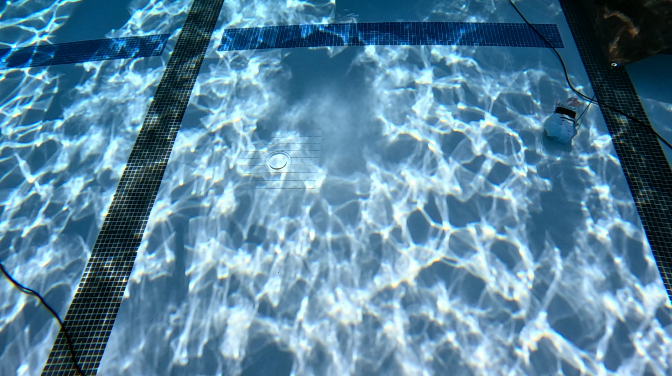sandbag: (606, 0, 671, 64), (544, 103, 578, 142)
